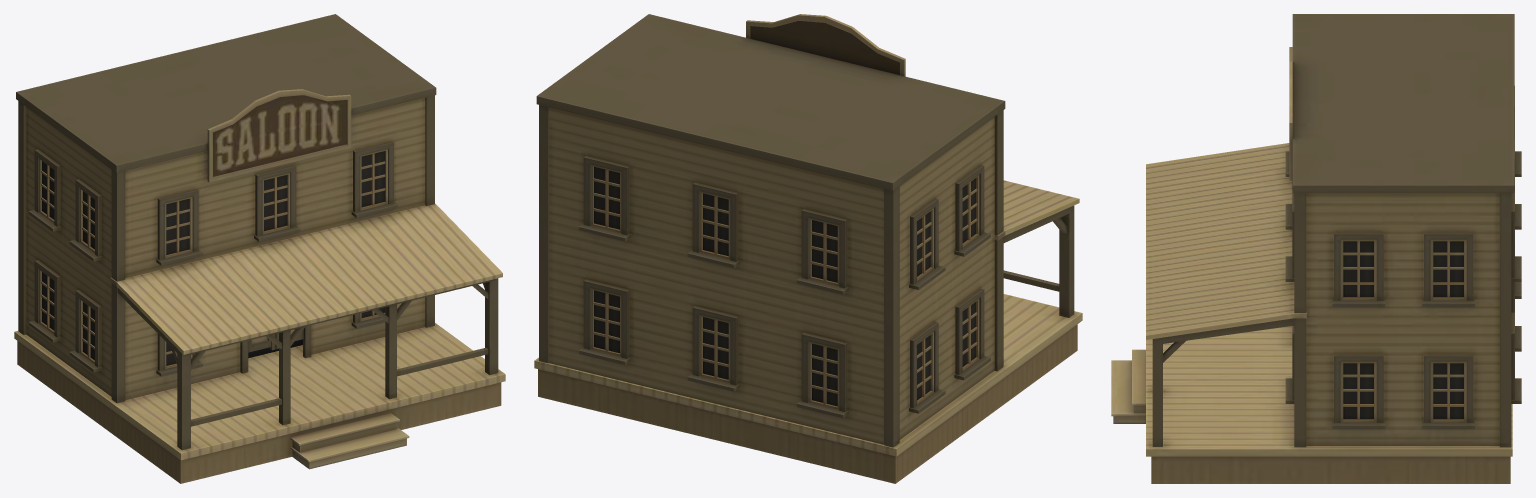
The model's file is 82JBTSsWag4.glb.
The picture shows the model from 3 angles, left to right: view 1: azimuth 30°, elevation 25°; view 2: azimuth 150°, elevation 25°; view 3: azimuth 270°, elevation 25°; orthographic projection. The views are drawn at different scales.
Parts seen in each view (by area): view 1: Saloon_Mesh; view 2: Saloon_Mesh; view 3: Saloon_Mesh.
Boxes of the visible parts, x1,y1,x2,y2 form: Saloon_Mesh: (14, 14, 505, 483); Saloon_Mesh: (534, 14, 1082, 483); Saloon_Mesh: (1111, 14, 1521, 483).
Size of the model in its own units: 1.13 by 1 by 1.1.
1 material, 1 textured.
